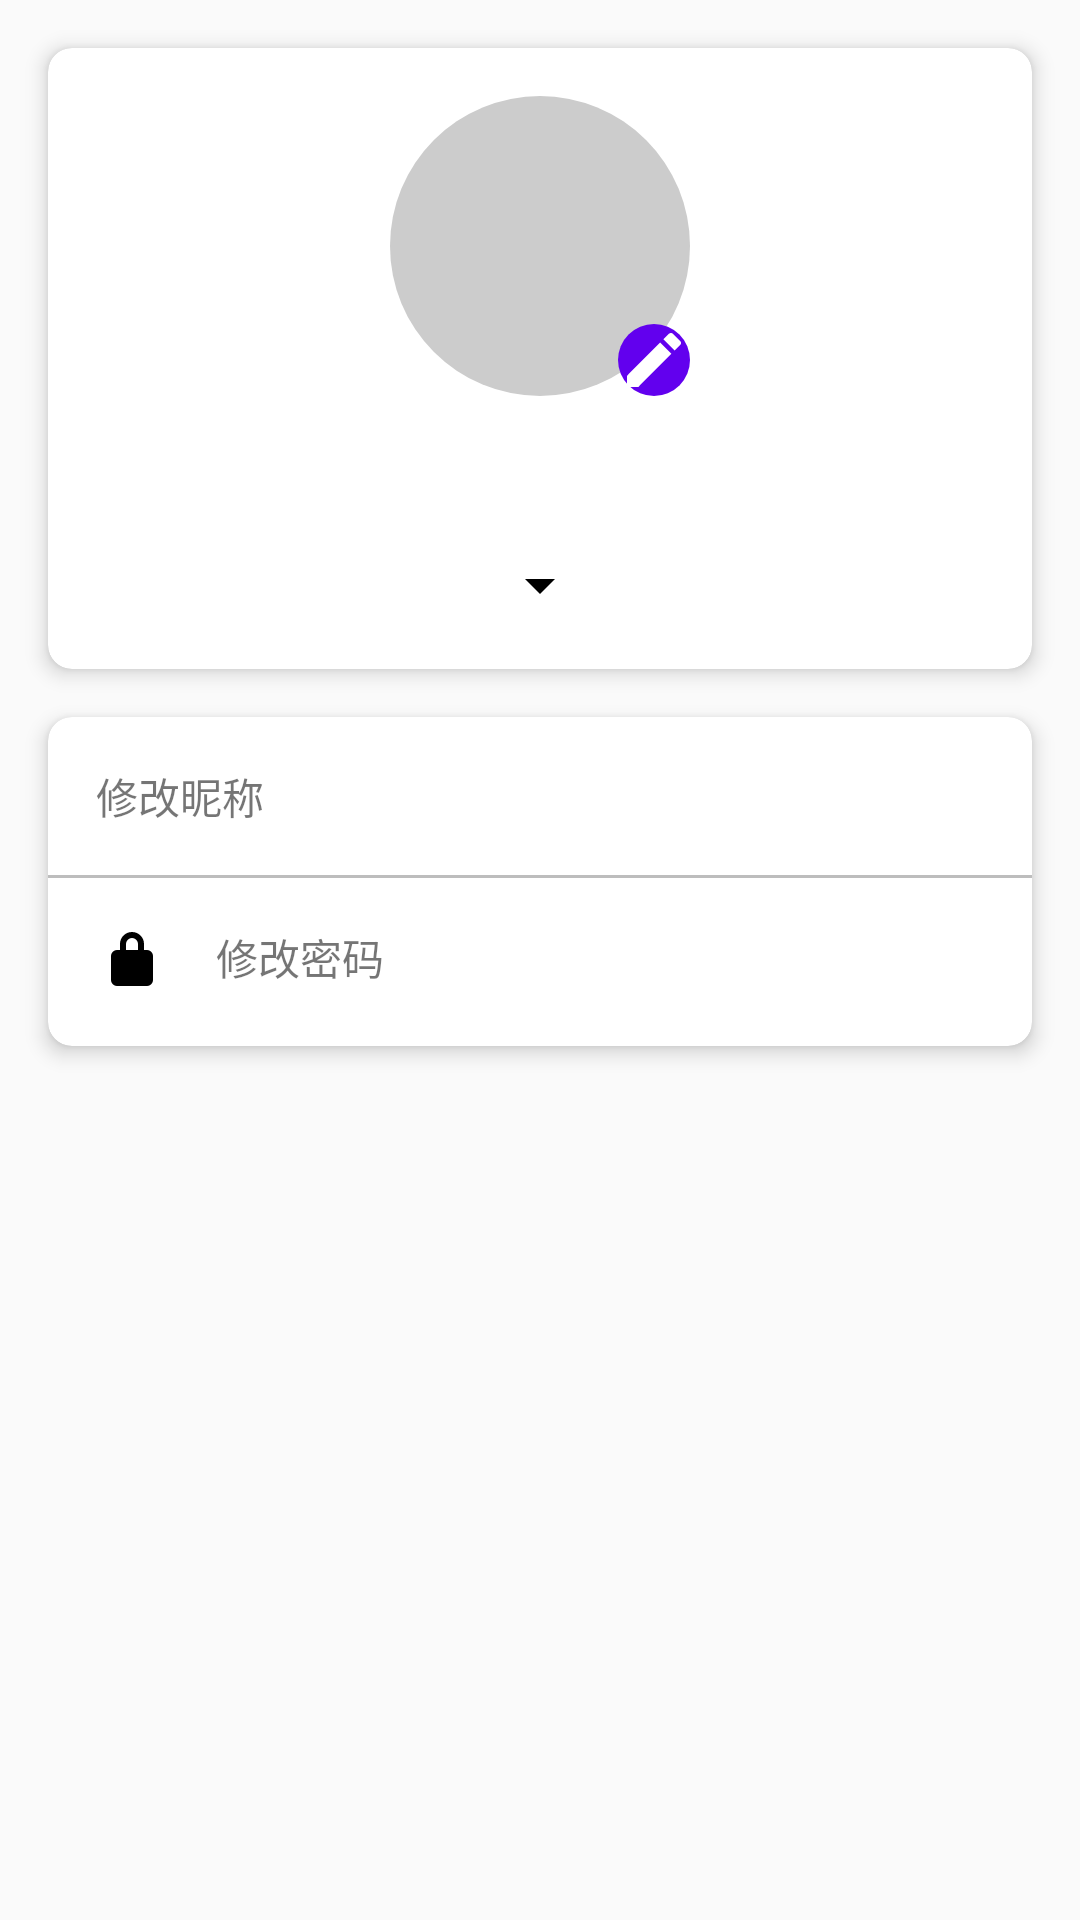

Where to tap for icons on this 1080 x 1920 app screen, as (x=x, y=y):
edit: (x=654, y=360)
